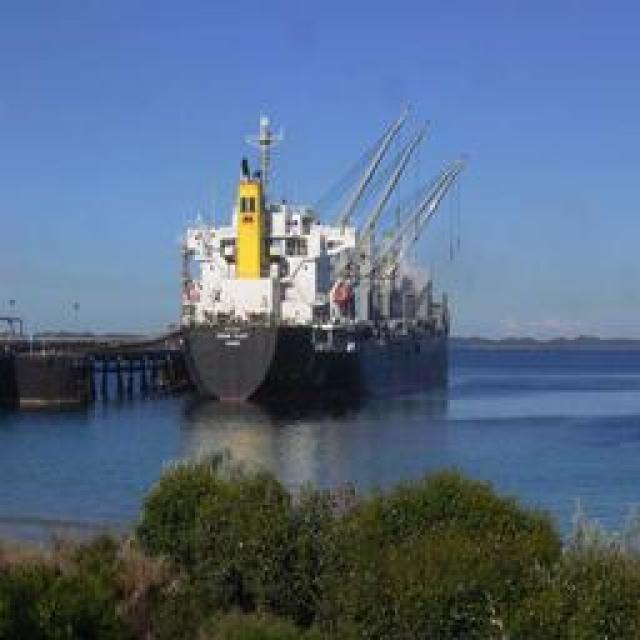ship2: (180, 109, 465, 413)
